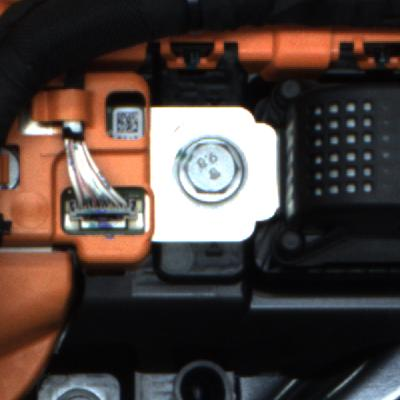nut_b: (175, 129, 242, 210)
